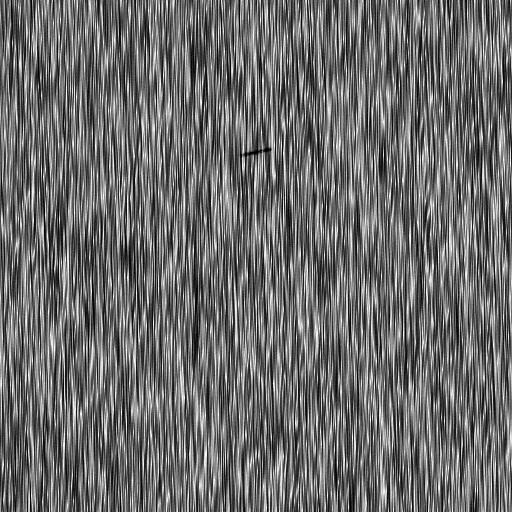DefectTypeC: (244, 146, 274, 157)
